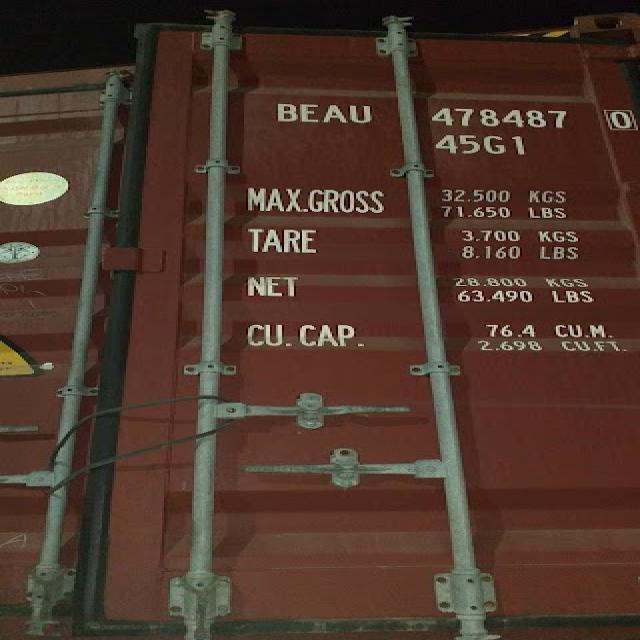ISO: (423, 135, 530, 153)
container_number: (282, 106, 639, 130)
